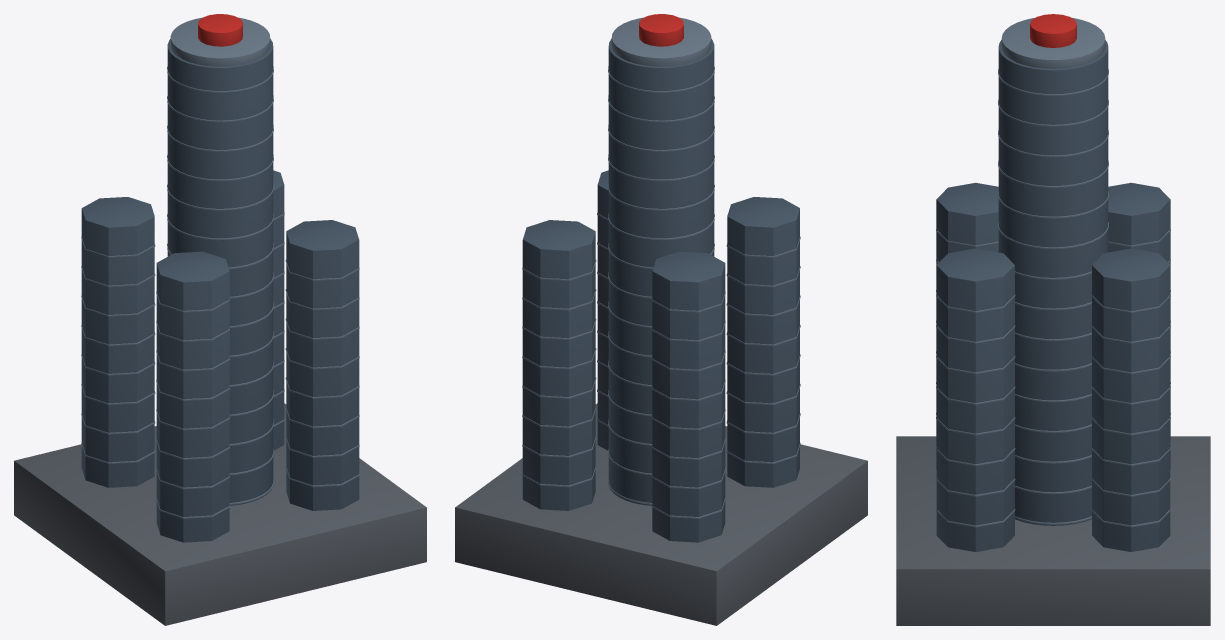
File: marco_detroit.glb
3 renders of one model, left to right at view 1: azimuth 30°, elevation 25°; view 2: azimuth 150°, elevation 25°; view 3: azimuth 270°, elevation 25°, orthographic. The views are drawn at different scales.
Parts seen in each view (by area): view 1: marco_detroit; view 2: marco_detroit; view 3: marco_detroit.
Part boxes in pixels (x1,y1,x2,y2): marco_detroit: (14, 14, 426, 625); marco_detroit: (455, 14, 867, 625); marco_detroit: (896, 14, 1210, 625).
Size of the model in its own units: 40 by 75.25 by 40.
